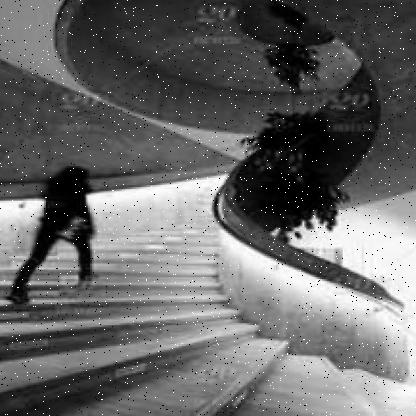stair_up: (4, 272, 289, 408)
